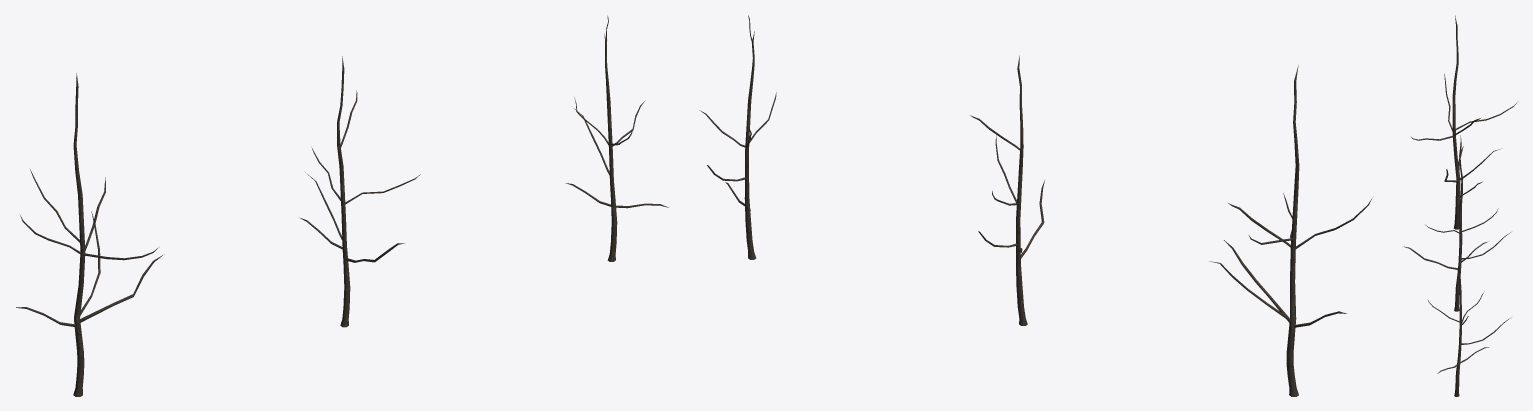
Rendered from pine_sapling_small_wood.glb.
3 renders of one model, left to right at view 1: azimuth 30°, elevation 25°; view 2: azimuth 150°, elevation 25°; view 3: azimuth 270°, elevation 25°, orthographic. The views are drawn at different scales.
Parts seen in each view (by area): view 1: pine_sapling_small_a, pine_sapling_small_b, pine_sapling_small_c; view 2: pine_sapling_small_a, pine_sapling_small_b, pine_sapling_small_c; view 3: pine_sapling_small_a, pine_sapling_small_b, pine_sapling_small_c.
Boxes of the visible parts, box(x1,y1,x2,y2) form: pine_sapling_small_a: box(16, 73, 164, 396); pine_sapling_small_b: box(299, 56, 420, 327); pine_sapling_small_c: box(565, 15, 668, 261); pine_sapling_small_a: box(1210, 65, 1373, 396); pine_sapling_small_b: box(970, 55, 1044, 325); pine_sapling_small_c: box(699, 15, 776, 259); pine_sapling_small_a: box(1411, 15, 1518, 229); pine_sapling_small_b: box(1404, 135, 1510, 311); pine_sapling_small_c: box(1427, 237, 1511, 396).
Size of the model in its own units: 2.42 by 1.17 by 0.5772.
Materials: 1 (1 with a texture image).
